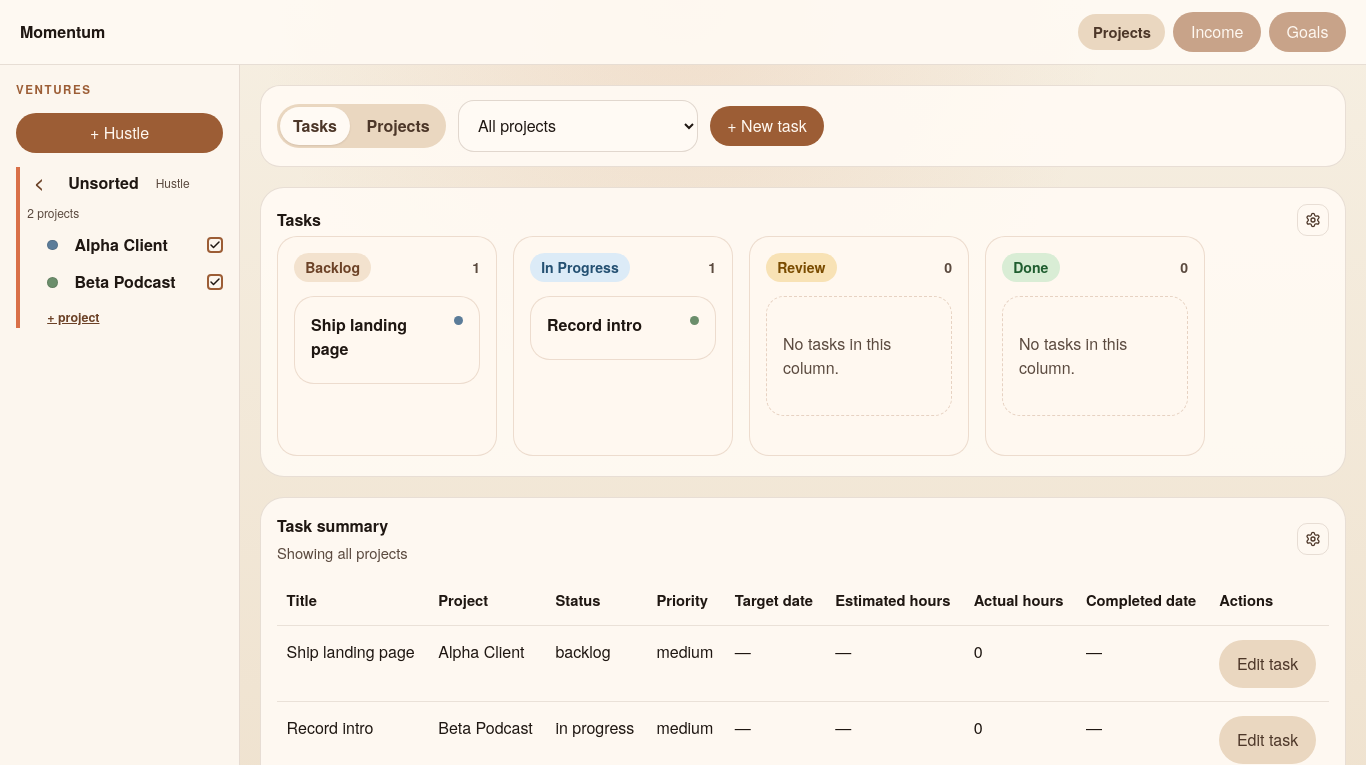
Test: Ticket 1b-2 project and task modal UX › sidebar multi-select filter › scopes the Kanban board and summary table to checked projects
Click the checkbox named "Alpha Client" at [215, 245], box [207, 237, 223, 253]
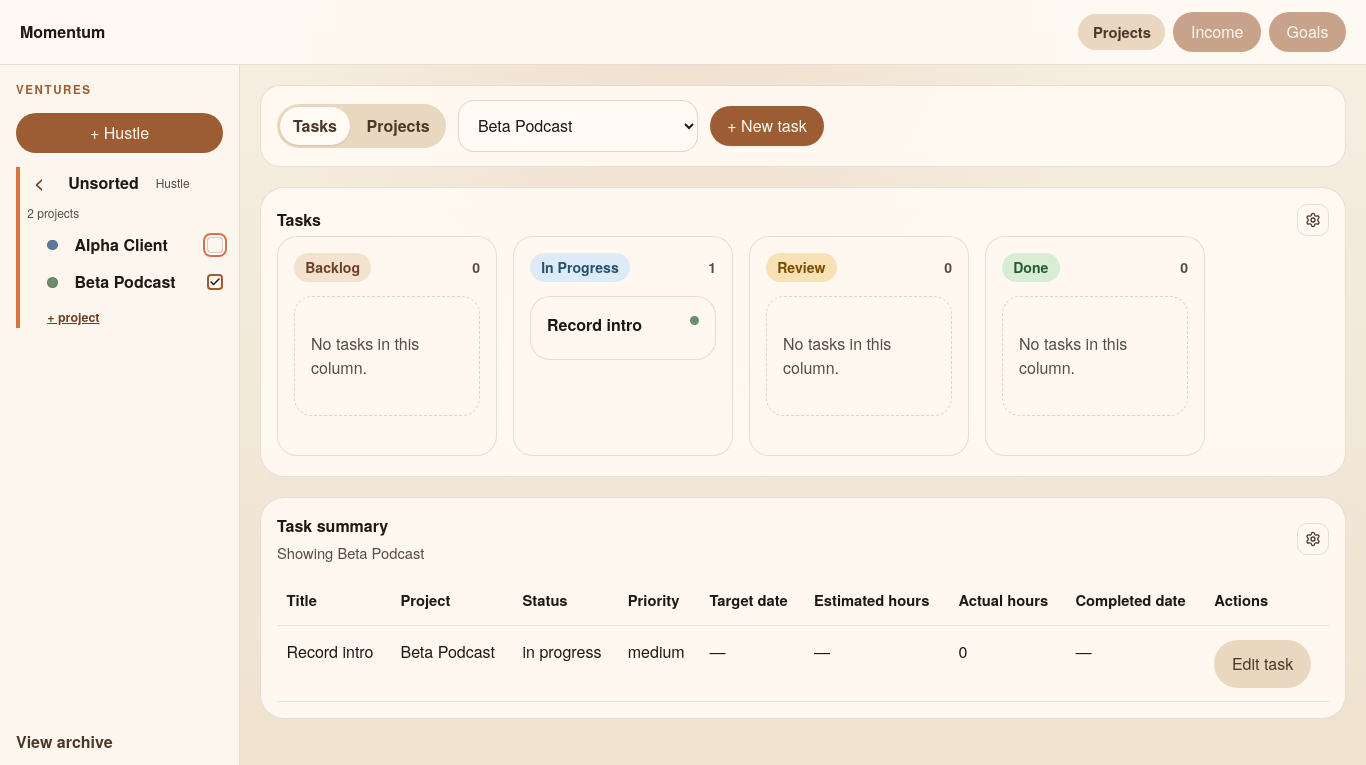
Expected: the button "Record intro" is shown, [547, 313, 642, 337]
Result: the button "Ship landing page" is gone
